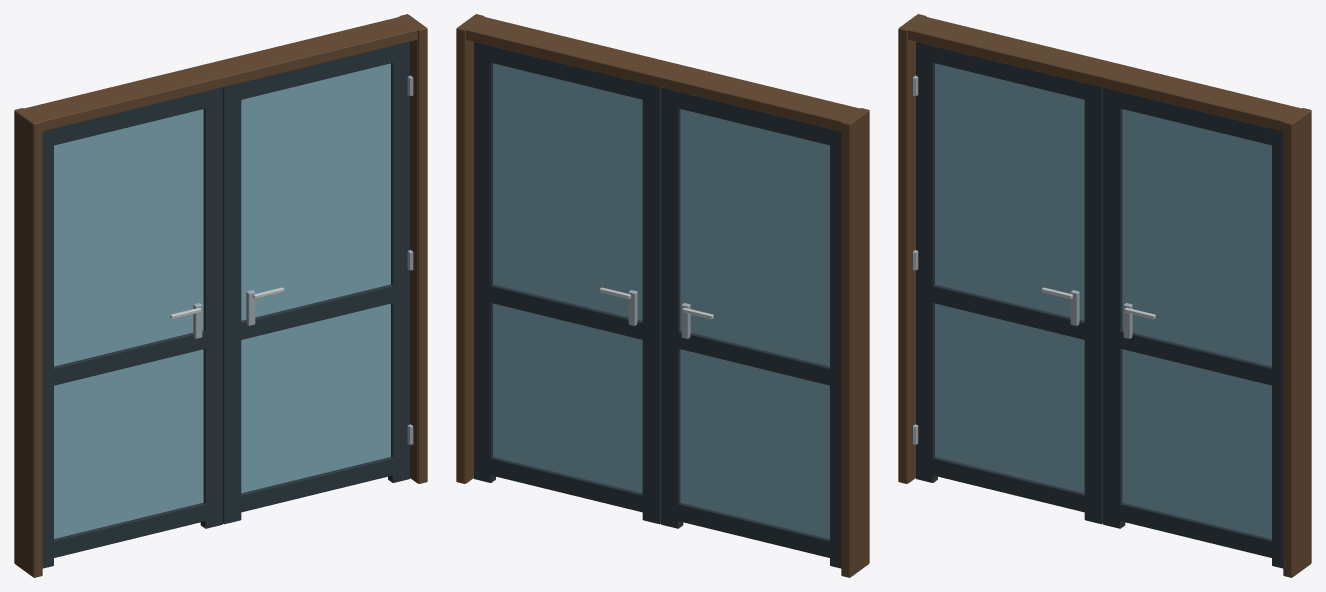
File: b21_door_double_glazed_2m.glb
The picture shows the model from 3 angles, left to right: view 1: azimuth 30°, elevation 25°; view 2: azimuth 150°, elevation 25°; view 3: azimuth 330°, elevation 25°; orthographic projection.
Parts seen in each view (by area): view 1: b21_door_double_glazed_2m; view 2: b21_door_double_glazed_2m; view 3: b21_door_double_glazed_2m.
Boxes of the visible parts, <box> form: b21_door_double_glazed_2m: <box>14,14,427,577</box>; b21_door_double_glazed_2m: <box>456,14,869,577</box>; b21_door_double_glazed_2m: <box>898,14,1311,577</box>.
Bounding box in the file's own units: 2 × 2.2 × 0.176.
